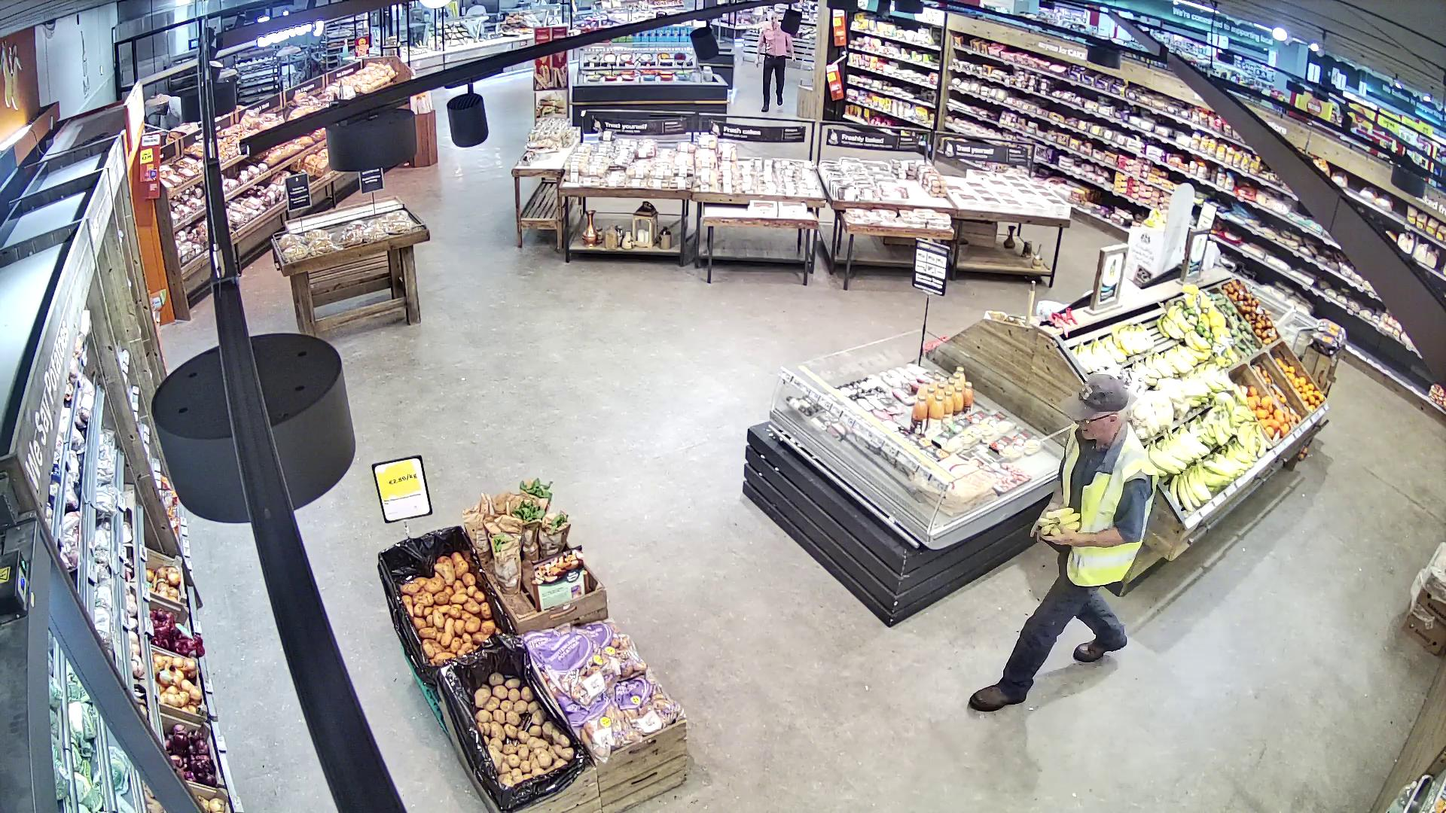person: (970, 376, 1157, 710)
person-with-carrying-item: (969, 376, 1156, 710)
